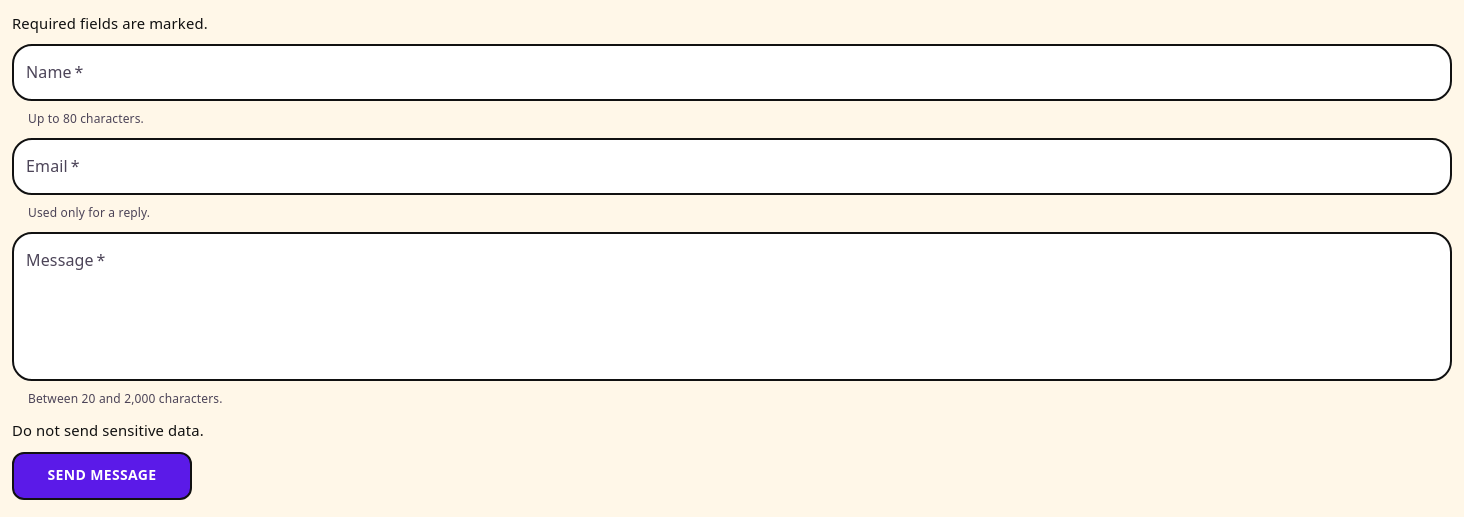
ContactForm › handles a successful submission after StrictMode effect replay
The image size is (1464, 517).
Type "Niccolò" into the field labelled "Name *" at (732, 73), box [12,45,1452,101]
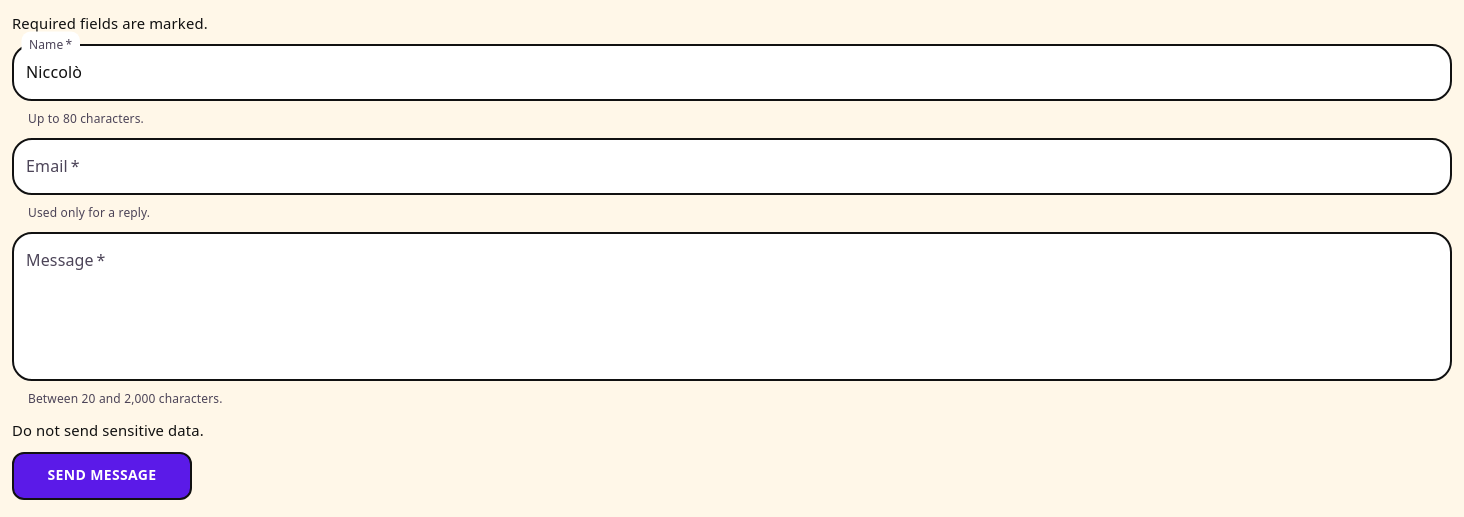
Type "niccolo@example.com" into the field labelled "Email *" at (732, 167), box [12,139,1452,195]
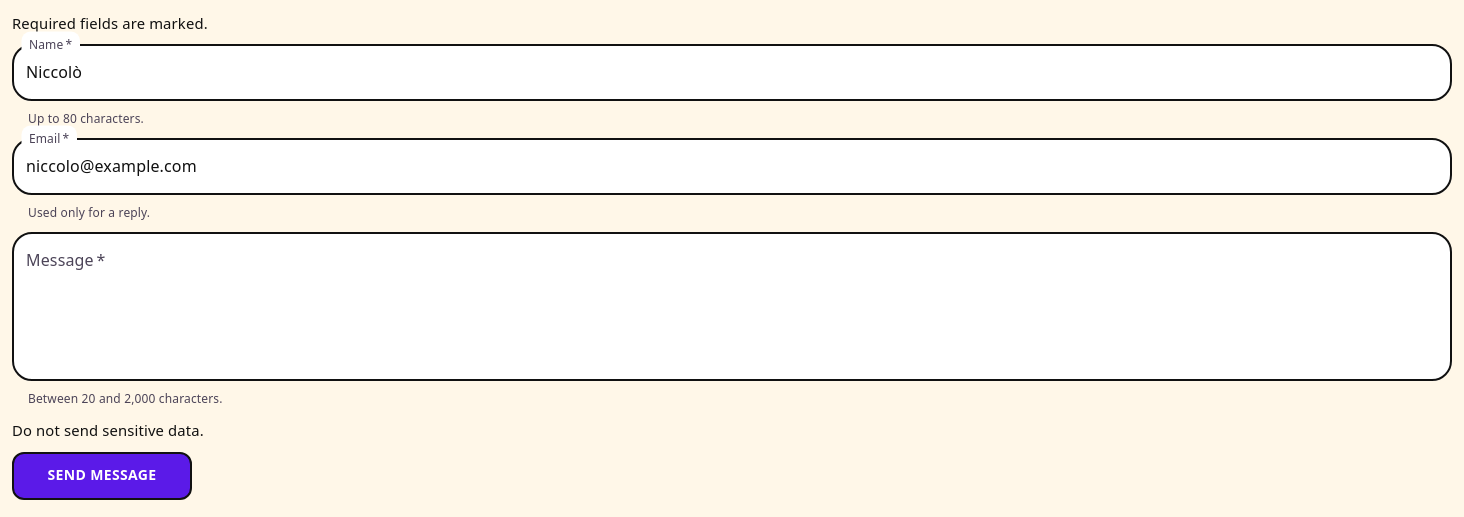
Type "A message that is long enough." into the text box labelled "Message *" at (732, 307), box [26,249,1438,364]
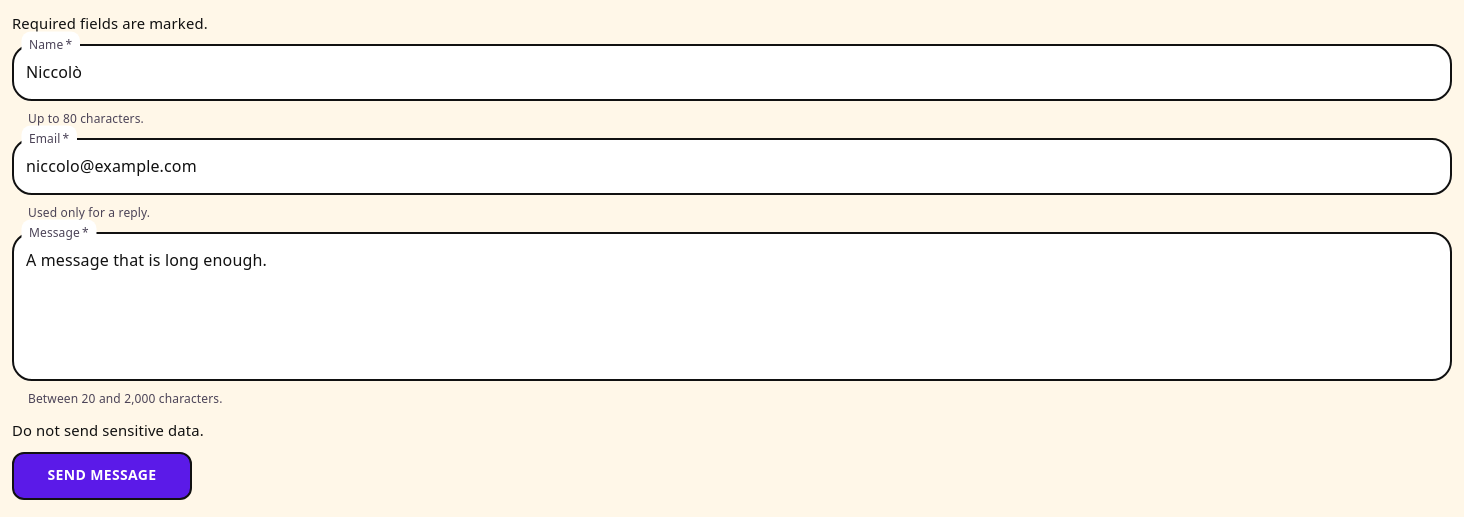
Submit the form named "Send message"
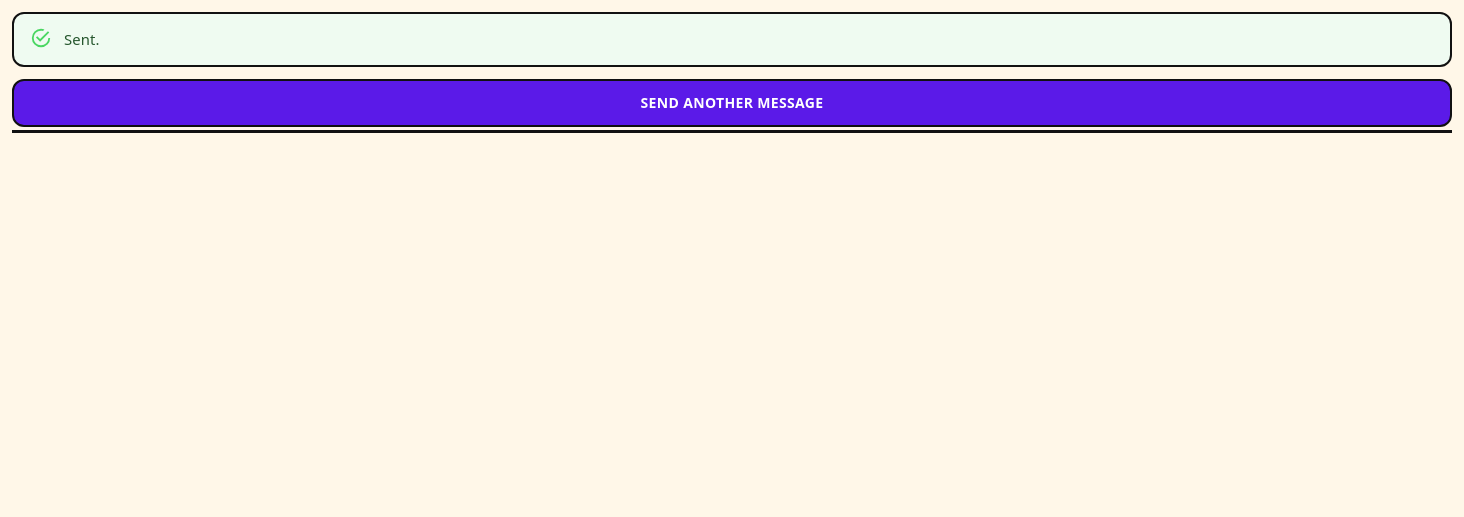
expect the text "Sent." is shown: met, box [64,29,100,49]
